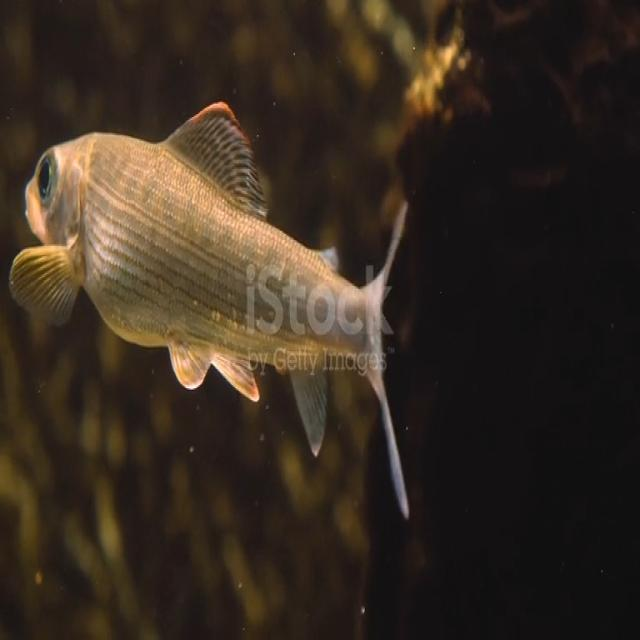fish: (8, 99, 424, 531)
